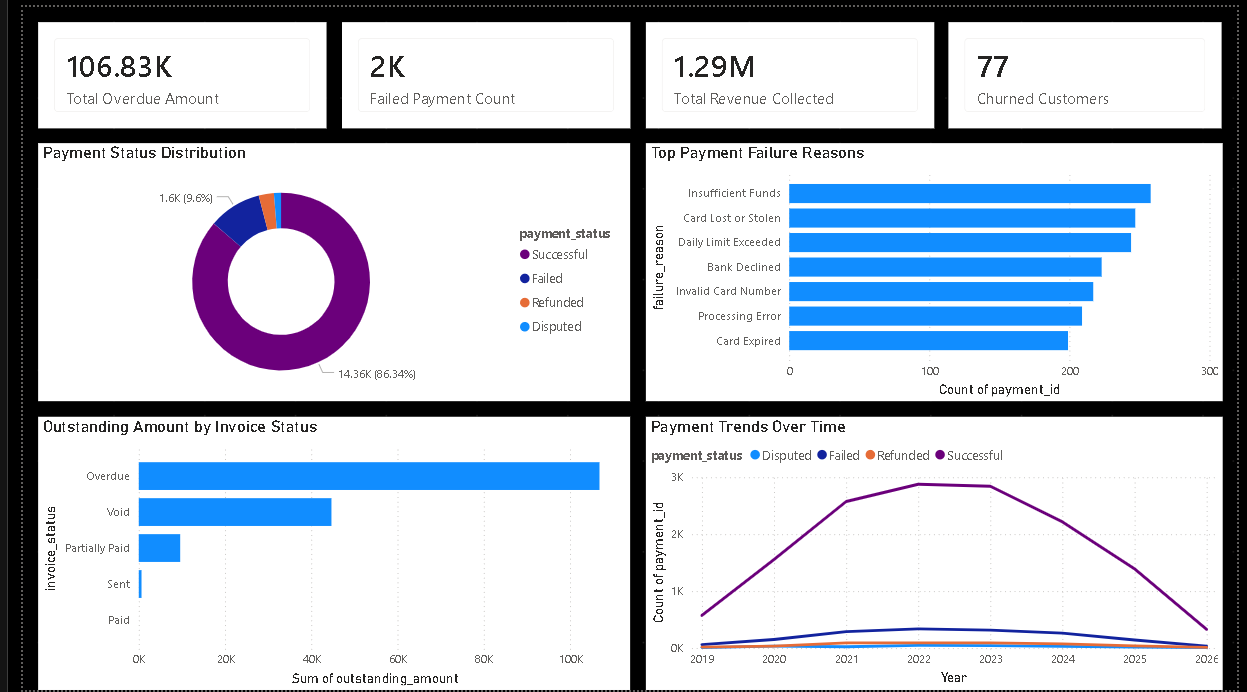

The page's visual inventory and layout, read from the dashboard file:
{"tool":"powerbi","page":{"name":"Revenue Leakage","canvas":[1280,720],"ordinal":1},"visuals":[{"type":"cardVisual","fields":{"Data":["_Measures.Total Overdue Amount"]},"box":[16,16,208,112],"z":0},{"type":"cardVisual","fields":{"Data":["_Measures.Failed Payment Count"]},"box":[240,16,208,112],"z":1},{"type":"cardVisual","fields":{"Data":["_Measures.Total Revenue Collected"]},"box":[464,16,208,112],"z":2},{"type":"cardVisual","fields":{"Data":["_Measures.Churned Customers"]},"box":[688,16,208,112],"z":3},{"type":"donutChart","title":"Payment Status Distribution","fields":{"Category":["public payments.payment_status"],"Y":["CountNonNull(public payments.payment_id)"]},"box":[16,144,432,272],"z":4},{"type":"clusteredBarChart","title":"Top Payment Failure Reasons","fields":{"Category":["public payments.failure_reason"],"Y":["CountNonNull(public payments.payment_id)"]},"box":[464,144,432,272],"z":5},{"type":"clusteredBarChart","title":"Outstanding Amount by Invoice Status","fields":{"Category":["public invoices.invoice_status"],"Y":["Sum(public invoices.outstanding_amount)"]},"box":[16,432,432,288],"z":6},{"type":"lineChart","title":"Payment Trends Over Time","fields":{"Category":["public payments.payment_date.Variation.Date Hierarchy.Year","public payments.payment_date.Variation.Date Hierarchy.Month"],"Y":["CountNonNull(public payments.payment_id)"],"Series":["public payments.payment_status"]},"box":[464,432,432,288],"z":7}]}

Visuals, with their boxes in screenshot pixels (x1, y1, x2, y2), scaled from the page's 1280x720 canvas onto the 1247x692 screenshot:
cardVisual - _Measures.Total Overdue Amount: bbox=(16, 15, 218, 123)
cardVisual - _Measures.Failed Payment Count: bbox=(234, 15, 436, 123)
cardVisual - _Measures.Total Revenue Collected: bbox=(452, 15, 655, 123)
cardVisual - _Measures.Churned Customers: bbox=(670, 15, 873, 123)
"Payment Status Distribution" donutChart: bbox=(16, 138, 436, 400)
"Top Payment Failure Reasons" clusteredBarChart: bbox=(452, 138, 873, 400)
"Outstanding Amount by Invoice Status" clusteredBarChart: bbox=(16, 415, 436, 691)
"Payment Trends Over Time" lineChart: bbox=(452, 415, 873, 691)
